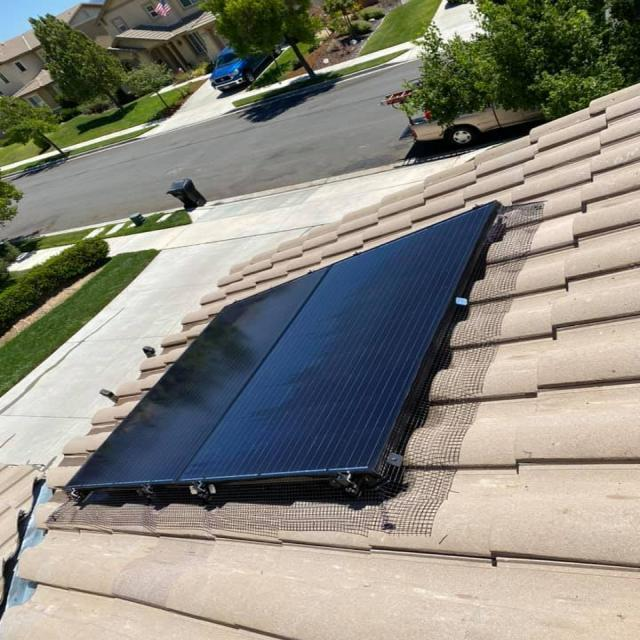no faulty: (72, 210, 495, 483)
